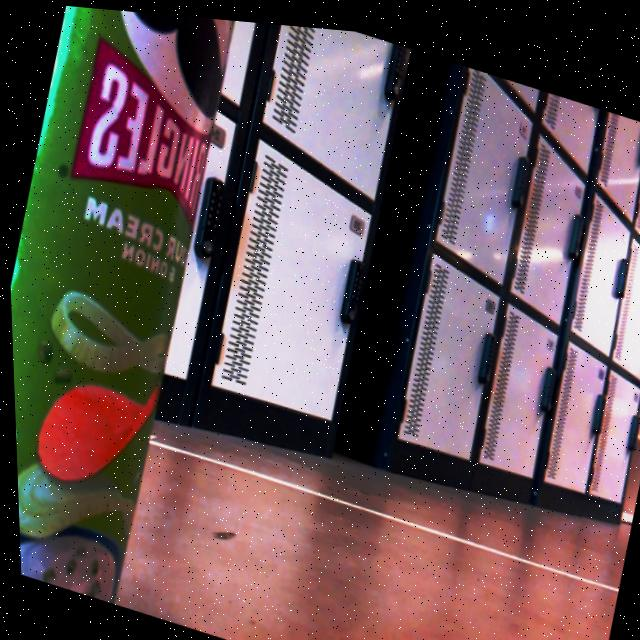greenpringles: (0, 0, 274, 619)
